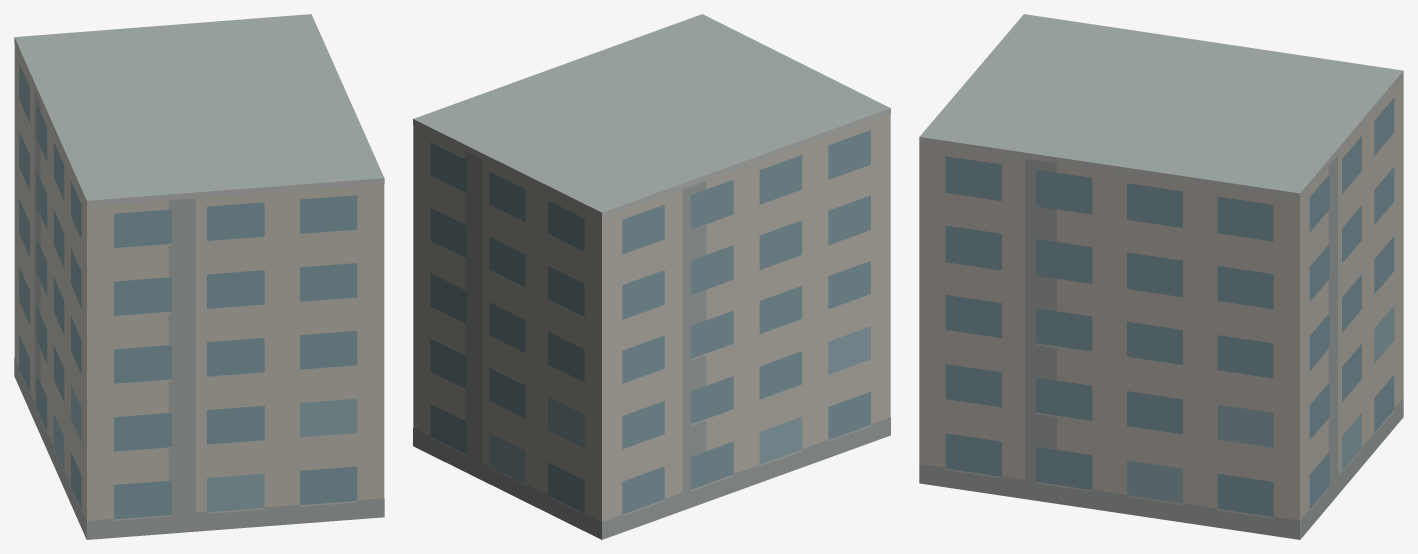
File: survey-upis-32889183.glb
The picture shows the model from 3 angles, left to right: view 1: azimuth 30°, elevation 25°; view 2: azimuth 150°, elevation 25°; view 3: azimuth 270°, elevation 25°; orthographic projection. The views are drawn at different scales.
Parts seen in each view (by area): view 1: survey-upis-32889183.tmp; view 2: survey-upis-32889183.tmp; view 3: survey-upis-32889183.tmp.
Boxes of the visible parts, box(x1,y1,x2,y2) form: survey-upis-32889183.tmp: box(14, 14, 384, 539); survey-upis-32889183.tmp: box(413, 14, 890, 539); survey-upis-32889183.tmp: box(919, 14, 1403, 539).
Bounding box in the file's own units: 15.28 × 13.75 × 17.43.
